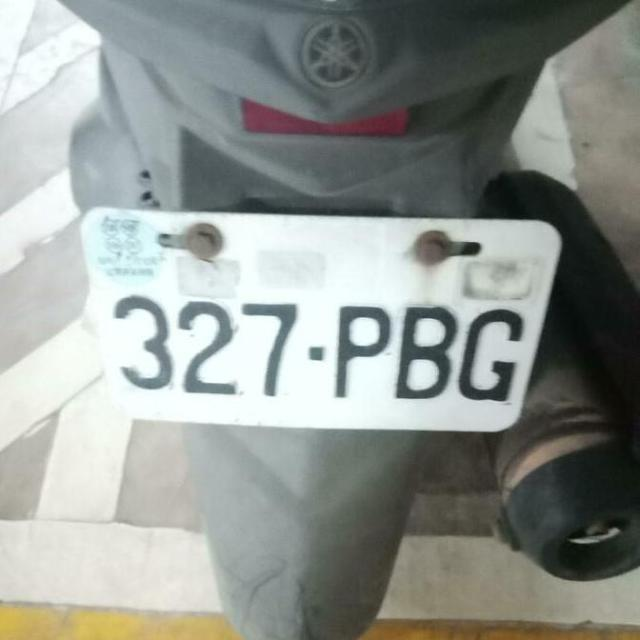W: (78, 179, 559, 456)
